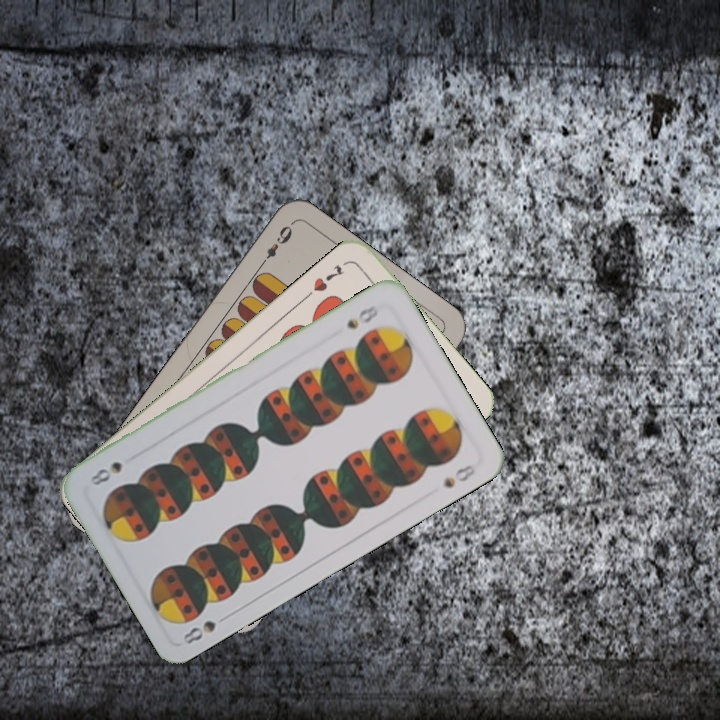E9: (255, 221, 295, 270)
H7: (309, 261, 347, 295)
S8: (178, 610, 233, 647), (342, 301, 381, 332)
